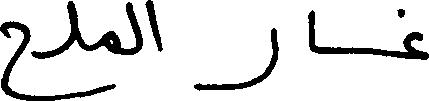X: (197, 23, 276, 95), (0, 16, 26, 100), (103, 26, 118, 96), (405, 27, 428, 64), (127, 0, 140, 59), (70, 0, 77, 100), (148, 0, 160, 56), (308, 5, 314, 56)
